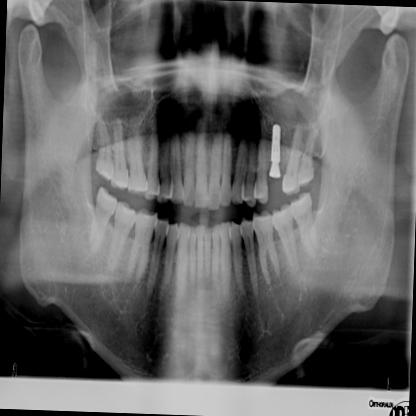ITI: (266, 119, 286, 164)
